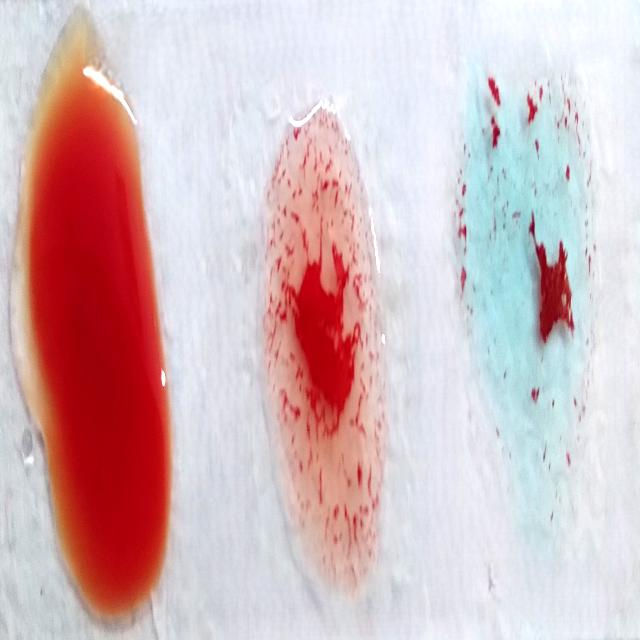A: (458, 69, 594, 530)
D: (264, 99, 385, 608)
